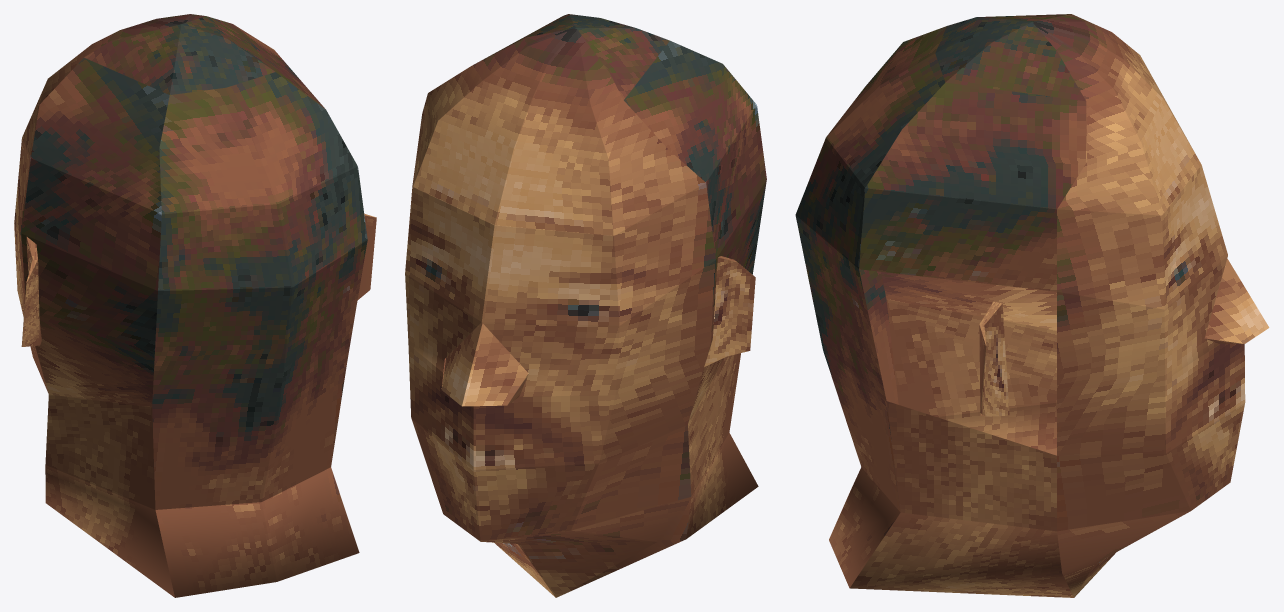
File: criminal.glb
3 views of the same model, side by side, from view 1: azimuth 30°, elevation 25°; view 2: azimuth 150°, elevation 25°; view 3: azimuth 270°, elevation 25° (orthographic). The views are drawn at different scales.
Parts seen in each view (by area): view 1: predator3_lambert3_0; view 2: predator3_lambert3_0; view 3: predator3_lambert3_0.
Boxes of the visible parts, x1=… form: predator3_lambert3_0: x1=14, y1=14, x2=376, y2=597; predator3_lambert3_0: x1=405, y1=14, x2=766, y2=597; predator3_lambert3_0: x1=795, y1=14, x2=1269, y2=597.
Bounding box in the file's own units: 0.3123 × 0.4773 × 0.356.
1 material, 1 textured.
